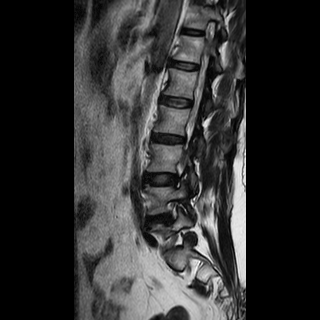LFS0: (161, 195, 186, 225)
